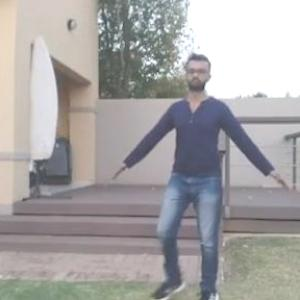land: (114, 57, 288, 299)
